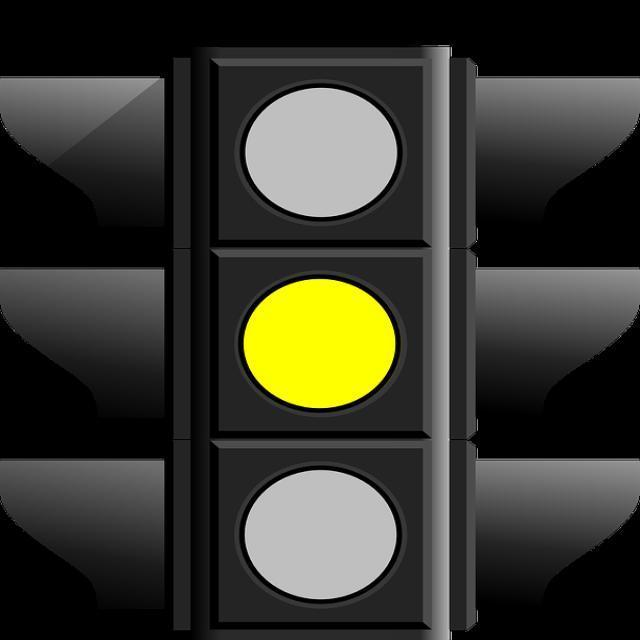yellow_light: (173, 46, 473, 638)
